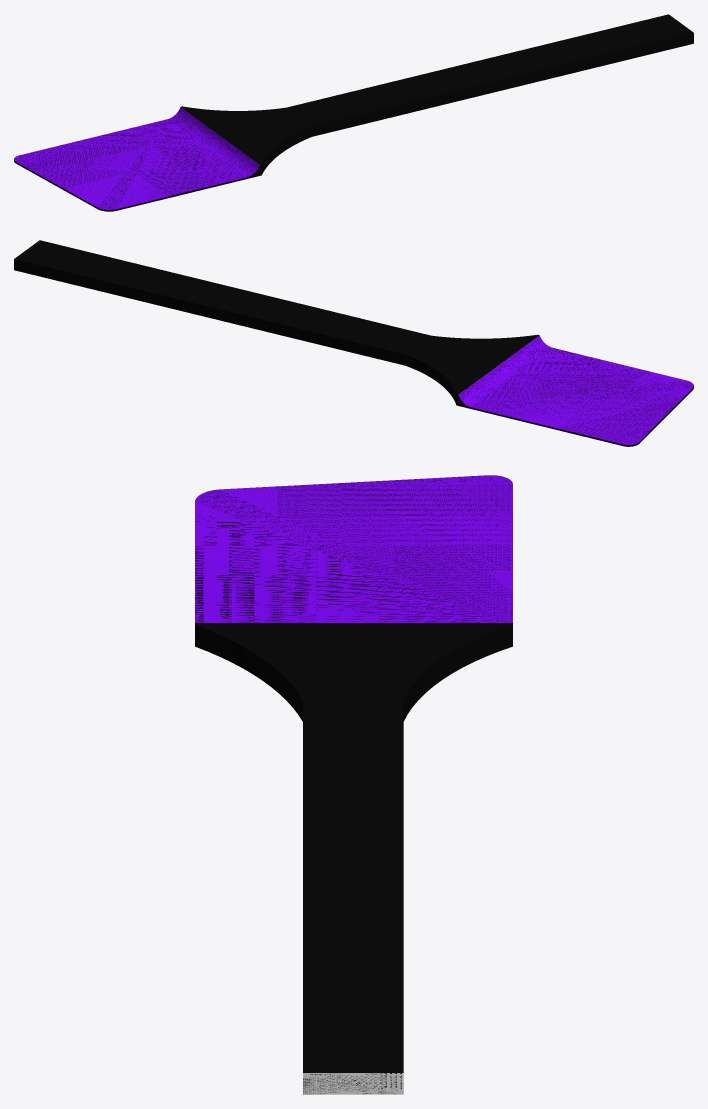
Rendered from turner_04_origin_gt_6.dae.
3 renders of one model, top to bottom at view 1: azimuth 30°, elevation 25°; view 2: azimuth 150°, elevation 25°; view 3: azimuth 270°, elevation 25°, orthographic. The views are drawn at different scales.
Visible parts, largest first — view 1: spatchuler (×2); view 2: spatchuler (×2); view 3: spatchuler (×3).
Boxes of the visible parts, x1,y1,x2,y2 form: spatchuler (×2): (14,14,693,211); spatchuler (×2): (14,240,693,446); spatchuler (×3): (195,475,512,1094).
Size of the model in its own units: 16.47 by 3.59 by 0.2723.
